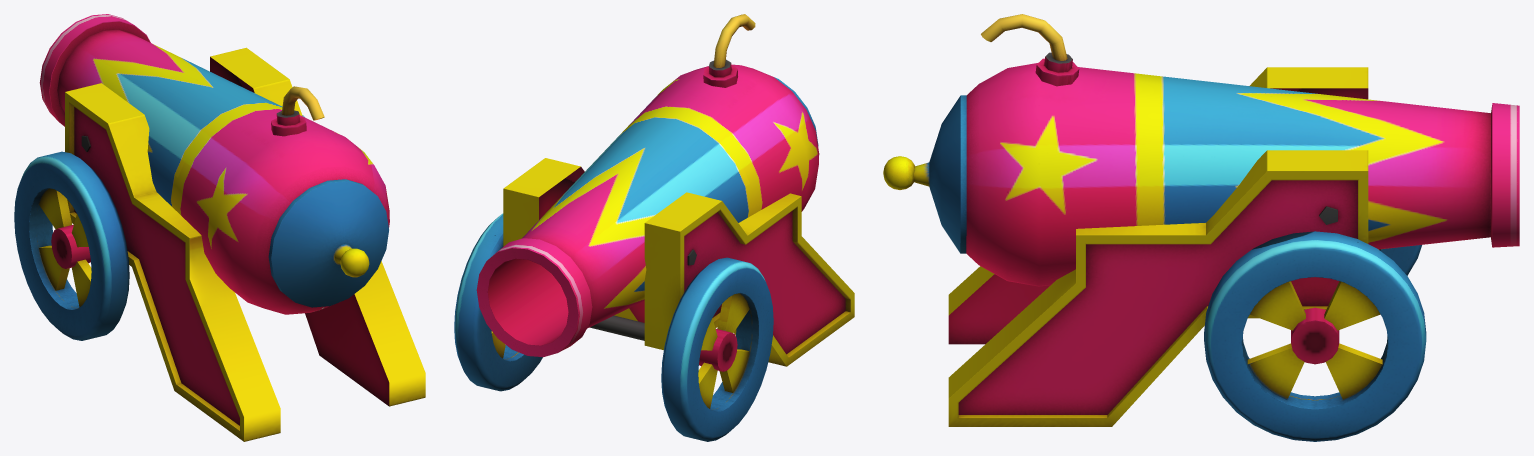
The model's file is canon.fbx.
3 views of the same model, side by side, from view 1: azimuth 30°, elevation 25°; view 2: azimuth 150°, elevation 25°; view 3: azimuth 270°, elevation 25° (orthographic). The views are drawn at different scales.
Parts seen in each view (by area): view 1: barrell, stand, wheel2, fuse, fuseholder1; view 2: barrell, stand, wheel2, wheel1, fuse, axle, fuseholder1; view 3: barrell, stand, wheel1, fuse, fuseholder1, wheel2.
Part boxes in pixels (left/top/right/bottom): barrell: left=39, top=14, right=389, bottom=314; stand: left=65, top=47, right=425, bottom=441; wheel2: left=14, top=151, right=129, bottom=340; fuse: left=281, top=86, right=324, bottom=120; fuseholder1: left=271, top=110, right=306, bottom=136; barrell: left=476, top=64, right=819, bottom=357; stand: left=503, top=158, right=854, bottom=366; wheel2: left=661, top=257, right=773, bottom=441; wheel1: left=454, top=213, right=542, bottom=391; fuse: left=713, top=14, right=755, bottom=67; axle: left=590, top=315, right=644, bottom=340; fuseholder1: left=703, top=59, right=737, bottom=87; barrell: left=883, top=63, right=1519, bottom=286; stand: left=948, top=67, right=1368, bottom=426; wheel1: left=1204, top=231, right=1426, bottom=441; fuse: left=981, top=14, right=1067, bottom=60; fuseholder1: left=1035, top=52, right=1079, bottom=86; wheel2: left=1379, top=245, right=1421, bottom=275.
Size of the model in its own units: 0.192 by 0.2377 by 0.3781.
